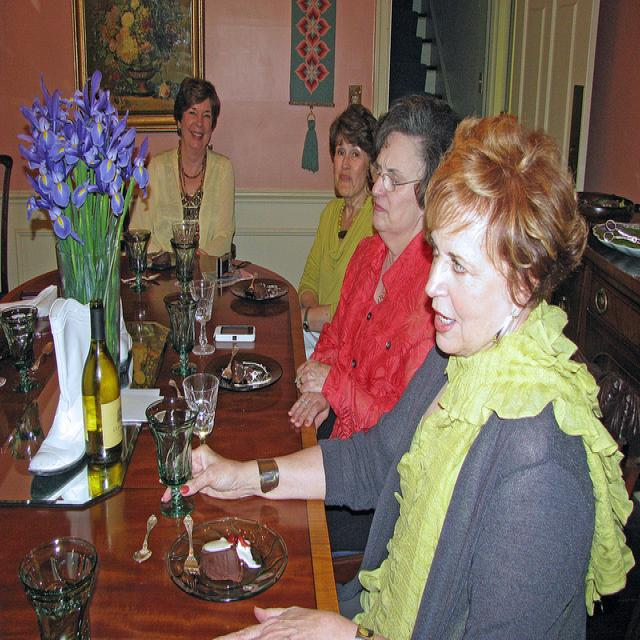chair: (589, 366, 640, 496), (3, 155, 16, 295)
dining table: (1, 248, 343, 631)
